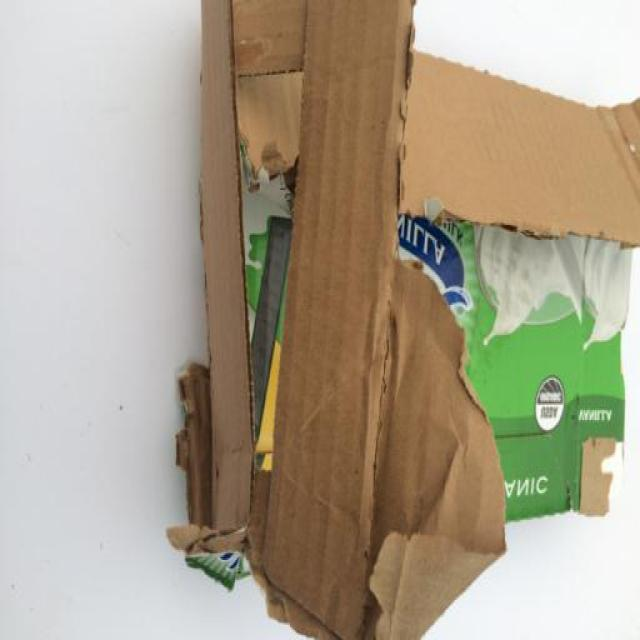cardboard: (168, 0, 640, 640)
